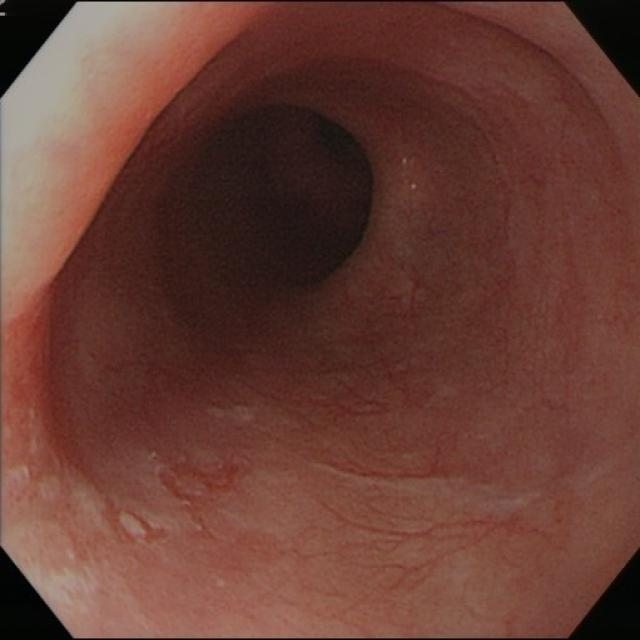A: (3, 286, 73, 492), (153, 452, 253, 538), (72, 463, 160, 558)
E: (174, 97, 377, 302)
J: (203, 399, 255, 425)
